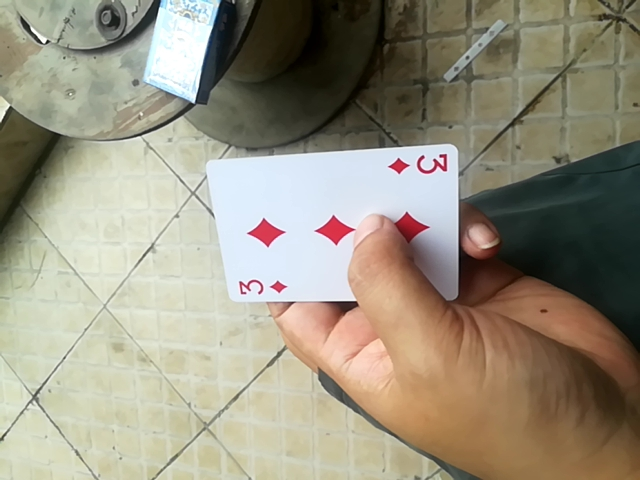fk 3: (203, 143, 467, 308)
